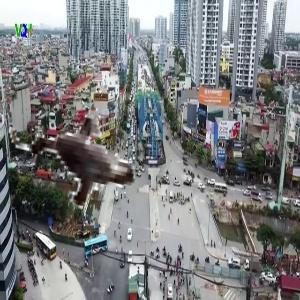drone: (4, 64, 178, 238)
